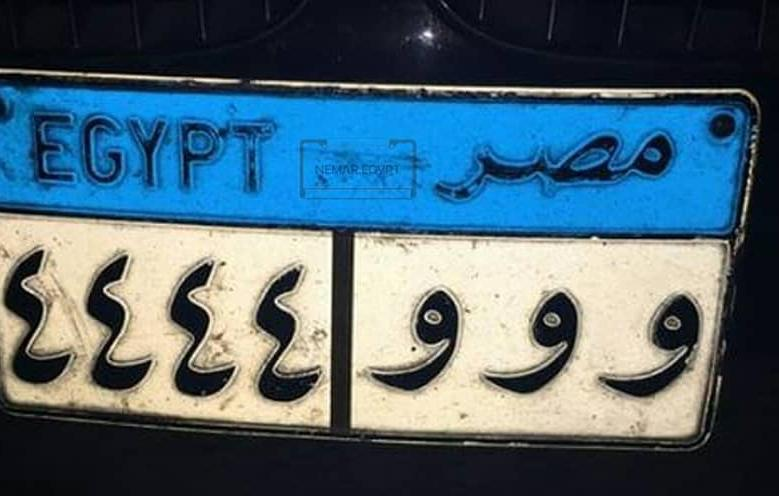4: (241, 250, 328, 414), (74, 243, 158, 400), (157, 255, 241, 402), (0, 244, 77, 392)
waw: (477, 279, 585, 412), (594, 280, 700, 415), (362, 277, 462, 403)
